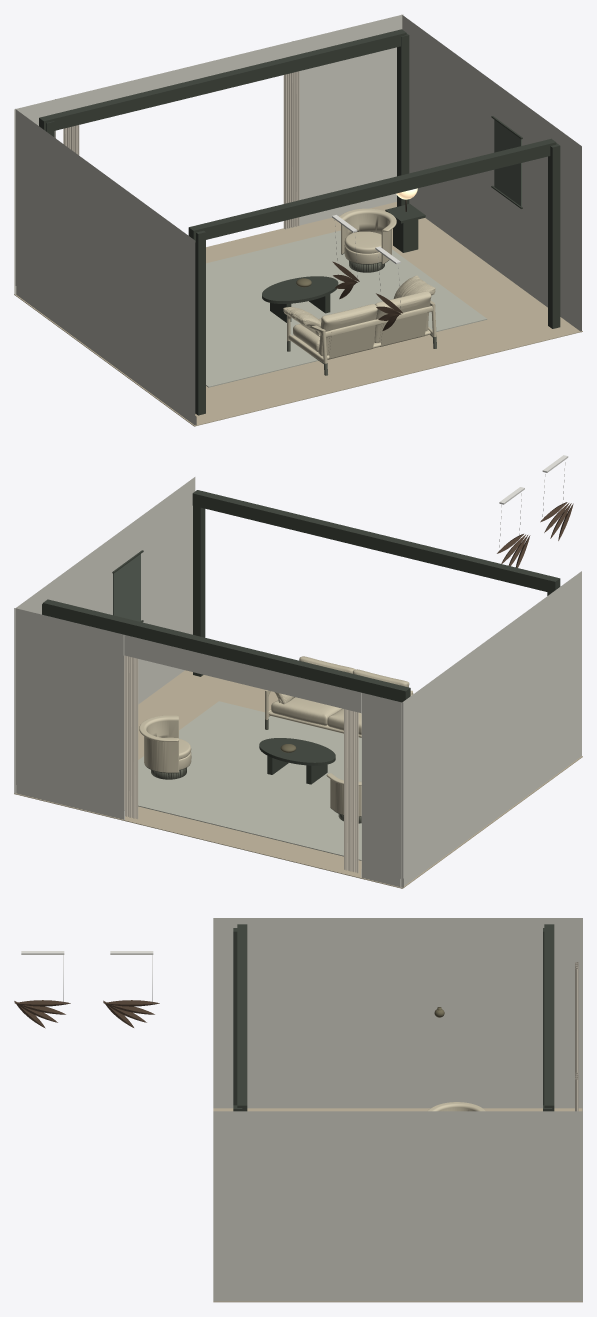
File: great-2.glb
3 views of the same model, one above another, from view 1: azimuth 30°, elevation 25°; view 2: azimuth 150°, elevation 25°; view 3: azimuth 270°, elevation 25° (orthographic). The views are drawn at different scales.
Visible parts, largest first — view 1: DESIGN | great removable wall finish, DESIGN | great floor finish, DESIGN | Great room primary ground, DESIGN | Great room sofa facing conversation, DESIGN | Great room timber ceiling member.001, DESIGN | Great room timber ceiling member, DESIGN | Required Bellustar swivel chair two, DESIGN | Great room timber end post.002, DESIGN | Great room soft window edge.001, DESIGN | Great room timber end post, DESIGN | Great room timber end post.003, DESIGN | R7 low conversation table (+2 smaller); view 2: DESIGN | great removable wall finish, DESIGN | Great room primary ground, DESIGN | great floor finish, DESIGN | Great room timber ceiling member, DESIGN | Great room timber ceiling member.001, DESIGN | Great room sofa facing conversation, DESIGN | Required Bellustar swivel chair two, DESIGN | Great room soft window edge, DESIGN | Great room soft window edge.001, DESIGN | Great room timber end post.002, DESIGN | Great room linen hanging, DESIGN | R7 low conversation table (+2 smaller); view 3: DESIGN | great removable wall finish, DESIGN | Great room timber ceiling member, DESIGN | Great room timber ceiling member.001, DESIGN | great floor finish, DESIGN | Great room timber end post, DESIGN | Required Flou pendant 2, DESIGN | Required Flou pendant 1.
Part boxes in pixels (<box>): DESIGN | great removable wall finish: <box>14,14,581,425</box>; DESIGN | great floor finish: <box>14,202,582,426</box>; DESIGN | Great room primary ground: <box>206,230,487,387</box>; DESIGN | Great room sofa facing conversation: <box>283,275,436,375</box>; DESIGN | Great room timber ceiling member.001: <box>39,29,406,130</box>; DESIGN | Great room timber ceiling member: <box>188,138,556,242</box>; DESIGN | Required Bellustar swivel chair two: <box>339,208,396,272</box>; DESIGN | Great room timber end post.002: <box>548,143,560,328</box>; DESIGN | Great room soft window edge.001: <box>283,71,299,229</box>; DESIGN | Great room timber end post: <box>195,230,205,415</box>; DESIGN | Great room timber end post.003: <box>397,33,409,206</box>; DESIGN | R7 low conversation table: <box>262,276,338,303</box>; DESIGN | great removable wall finish: <box>14,477,581,887</box>; DESIGN | Great room primary ground: <box>138,701,361,860</box>; DESIGN | great floor finish: <box>14,670,582,888</box>; DESIGN | Great room timber ceiling member: <box>192,490,560,592</box>; DESIGN | Great room timber ceiling member.001: <box>43,599,410,702</box>; DESIGN | Great room sofa facing conversation: <box>265,656,413,737</box>; DESIGN | Required Bellustar swivel chair two: <box>139,715,191,779</box>; DESIGN | Great room soft window edge: <box>344,709,358,873</box>; DESIGN | Great room soft window edge.001: <box>124,655,138,819</box>; DESIGN | Great room timber end post.002: <box>193,505,205,676</box>; DESIGN | Great room linen hanging: <box>113,554,140,621</box>; DESIGN | R7 low conversation table: <box>259,738,335,765</box>; DESIGN | great removable wall finish: <box>213,918,582,1301</box>; DESIGN | Great room timber ceiling member: <box>237,924,247,1111</box>; DESIGN | Great room timber ceiling member.001: <box>544,924,554,1111</box>; DESIGN | great floor finish: <box>213,1108,582,1302</box>; DESIGN | Great room timber end post: <box>233,928,237,1105</box>; DESIGN | Required Flou pendant 2: <box>103,1000,159,1027</box>; DESIGN | Required Flou pendant 1: <box>14,1000,70,1028</box>.
Bounding box in the file's own units: 6 × 3.04 × 7.42.
